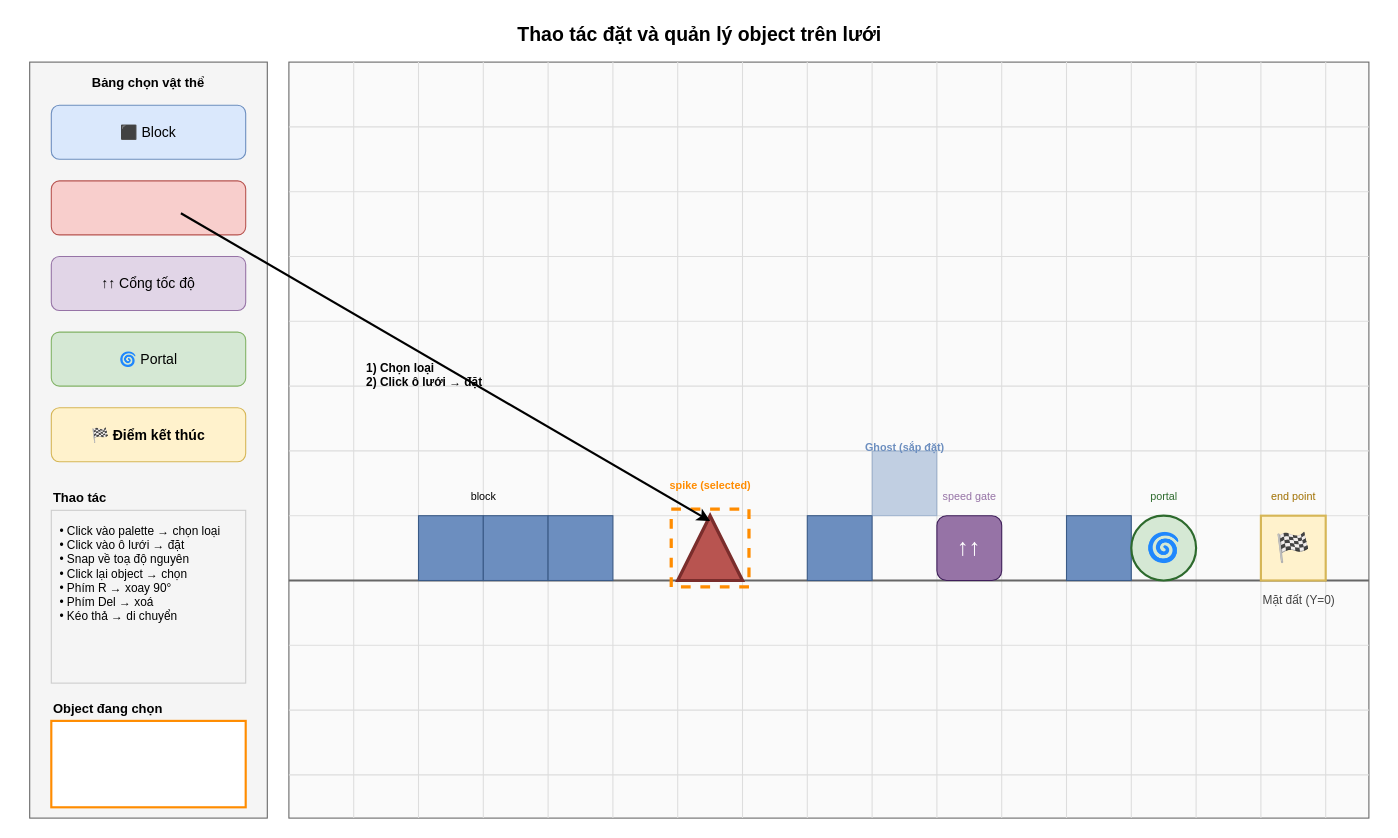
This 1398x838 diagram has some shape labels left out. The shapes that lost their labels are listed below. From the top down, each one's centre as x and y in pixels, then its label:
At (x=148, y=207): "▲ Gai (Spike)".
At (x=148, y=763): "prefabName: spike x: 6 y: 0 zRotate: 0° alpha: 1.0".
